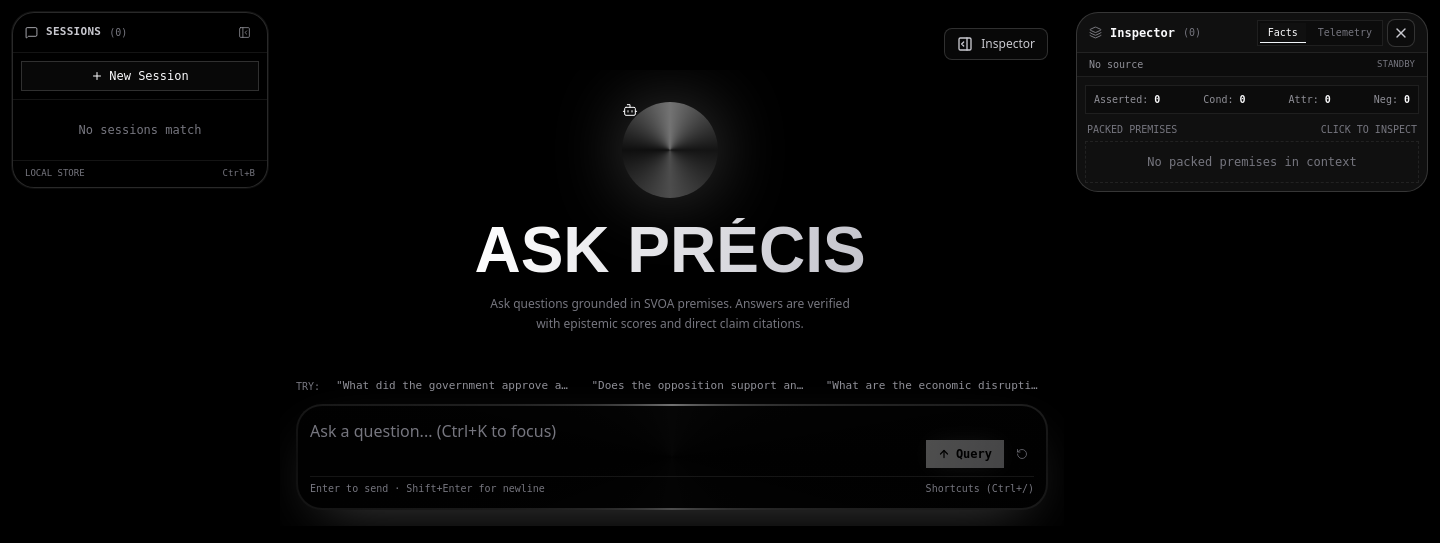
ChatView titles › keeps the first words when no title comes back
This screenshot has width=1440, height=543.
Type "revenue in 2021" into the text box.
click(614, 444); type("revenue in 2021")  # box top-left (310, 418), bottom-right (918, 470)
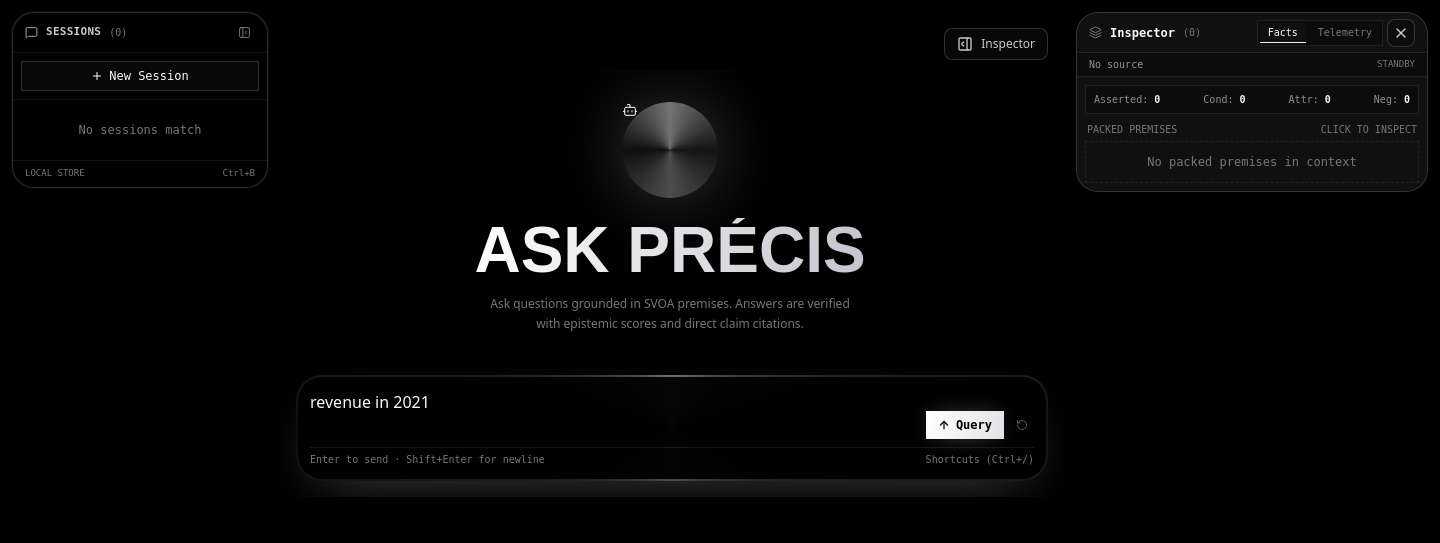
Press Enter in the text box, box top-left (310, 389), bottom-right (918, 441)
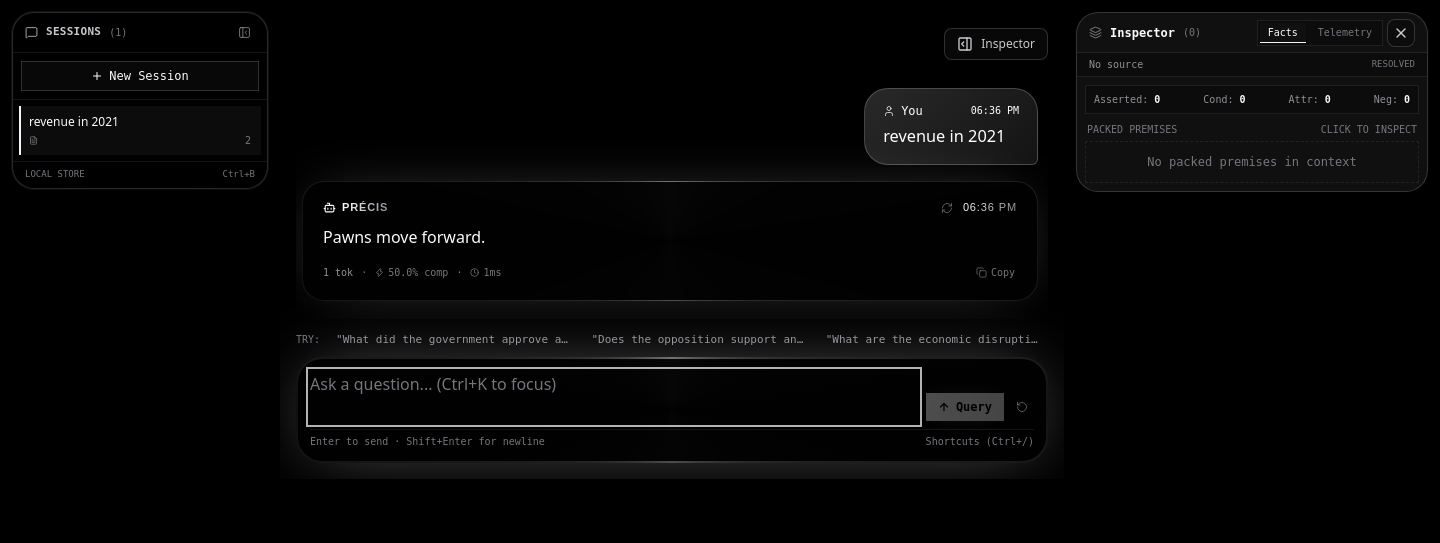
Check: the text "revenue in 2021" below "Sessions" is shown, box top-left (29, 113), bottom-right (119, 130)
